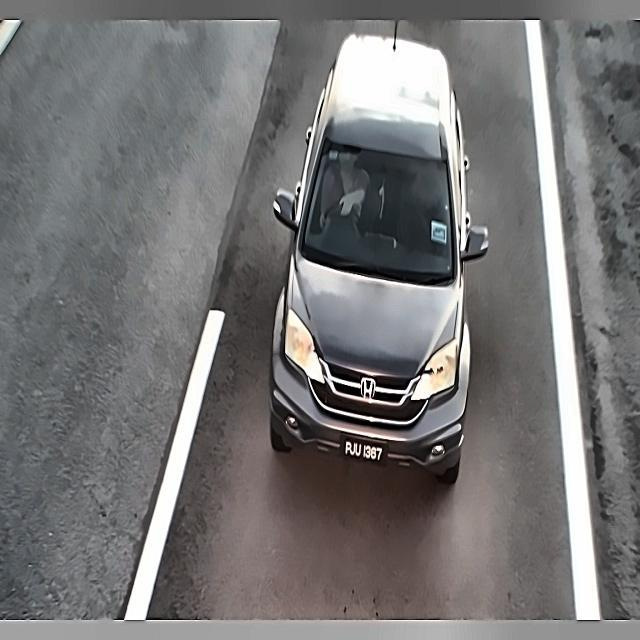car: (335, 432, 394, 474)
